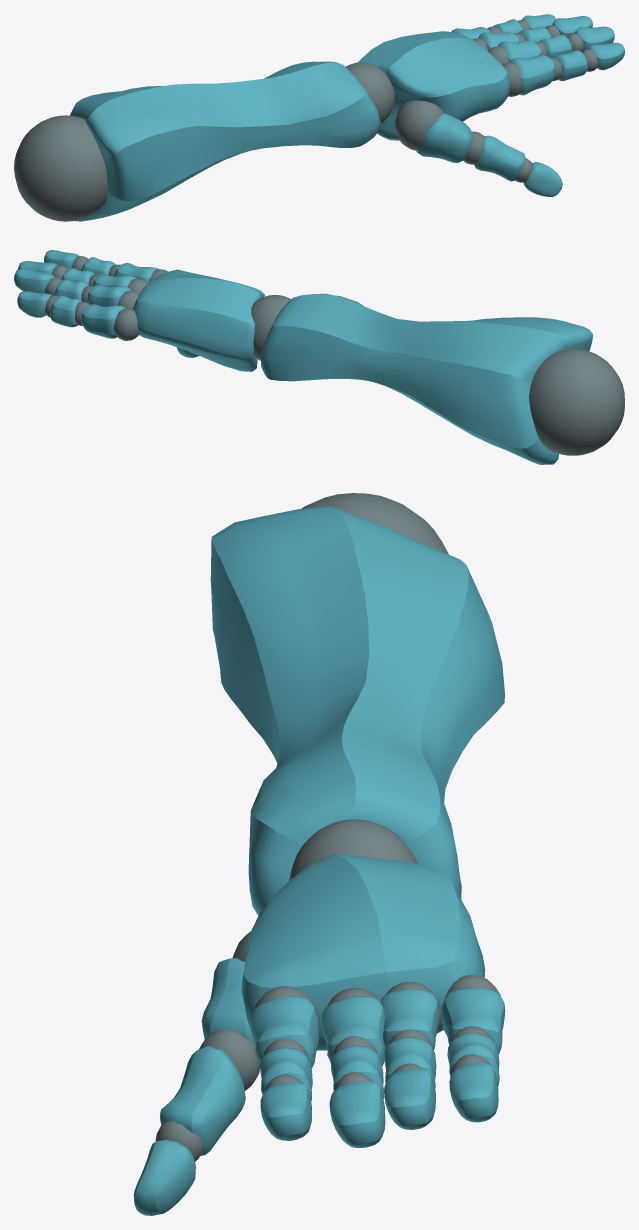
File: forearm.l.gltf
3 renders of one model, top to bottom at view 1: azimuth 30°, elevation 25°; view 2: azimuth 150°, elevation 25°; view 3: azimuth 270°, elevation 25°, orthographic. The views are drawn at different scales.
Parts seen in each view (by area): view 1: forearm.l; view 2: forearm.l; view 3: forearm.l.
Part boxes in pixels (left/top/right/bottom): forearm.l: left=14, top=14, right=624, bottom=221; forearm.l: left=14, top=250, right=624, bottom=464; forearm.l: left=133, top=493, right=505, bottom=1215.
Bounding box in the file's own units: 1.11 × 0.279 × 0.3003.
